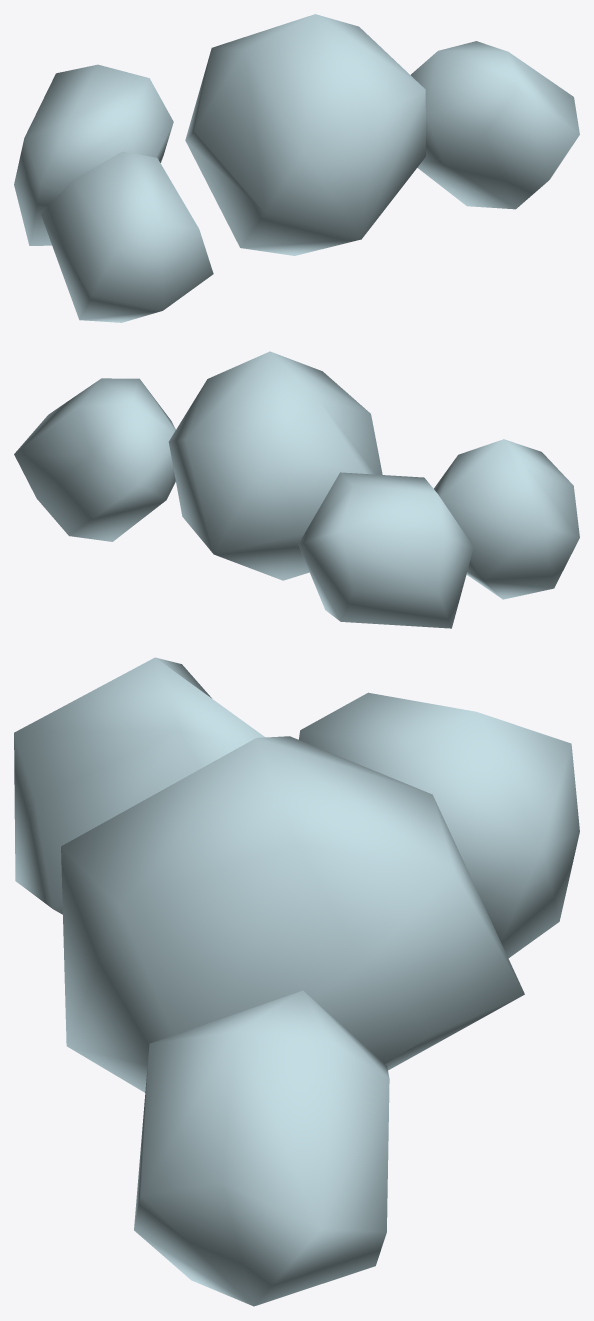
3 renders of one model, top to bottom at view 1: azimuth 30°, elevation 25°; view 2: azimuth 150°, elevation 25°; view 3: azimuth 270°, elevation 25°, orthographic. The views are drawn at different scales.
Visible parts, largest first — view 1: Object57; view 2: Object57; view 3: Object57.
Boxes of the visible parts, bbox=[...] form: Object57: bbox=[14, 14, 579, 322]; Object57: bbox=[14, 351, 579, 628]; Object57: bbox=[14, 657, 579, 1306].
Bounding box in the file's own units: 81.42 × 34.58 × 42.84.
